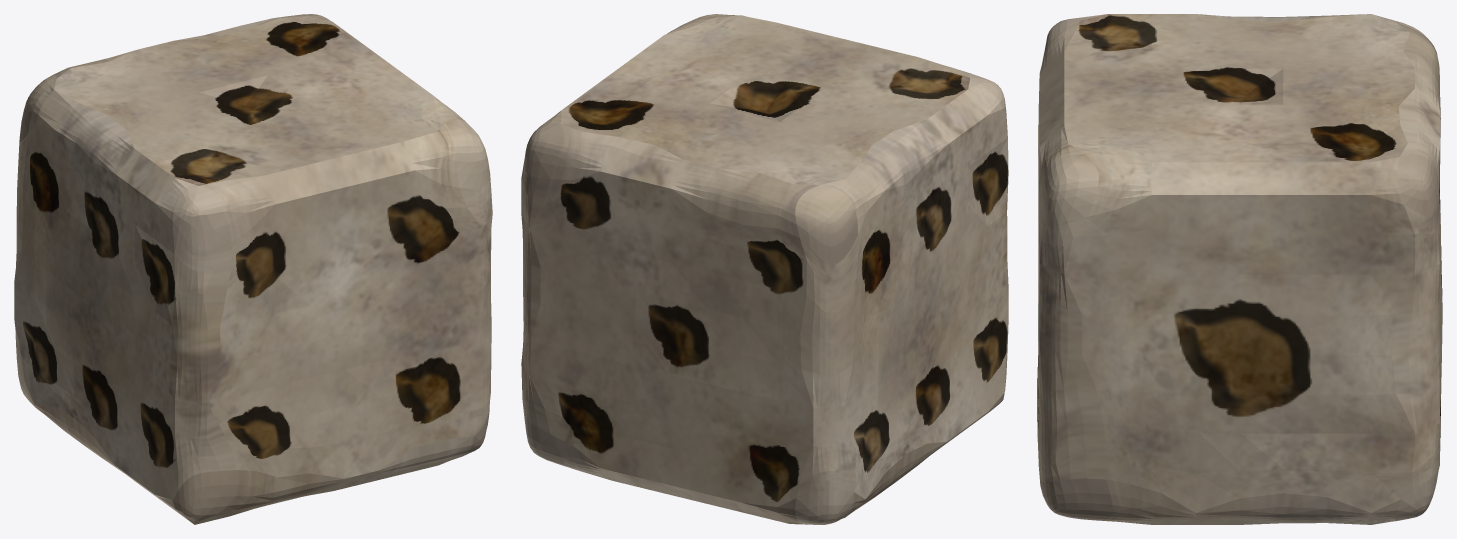
3 views of the same model, side by side, from view 1: azimuth 30°, elevation 25°; view 2: azimuth 150°, elevation 25°; view 3: azimuth 270°, elevation 25° (orthographic). The views are drawn at different scales.
Parts seen in each view (by area): view 1: Cube; view 2: Cube; view 3: Cube.
Boxes of the visible parts, x1,y1,x2,y2 form: Cube: (14,14,492,524); Cube: (521,14,1008,524); Cube: (1037,14,1442,524).
Size of the model in its own units: 2.03 by 2.03 by 2.02.
Materials: 1 (1 with a texture image).
